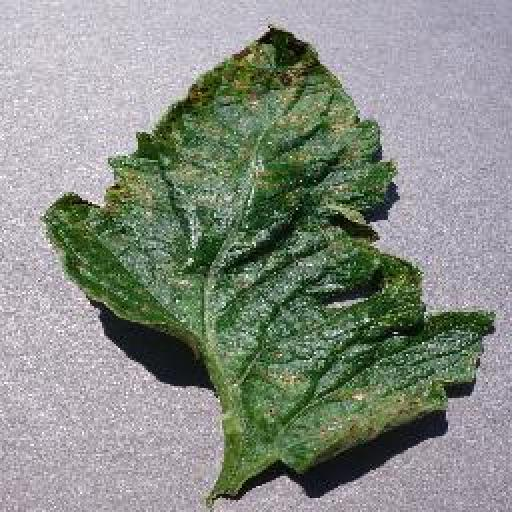Septoria: (47, 30, 494, 470)
